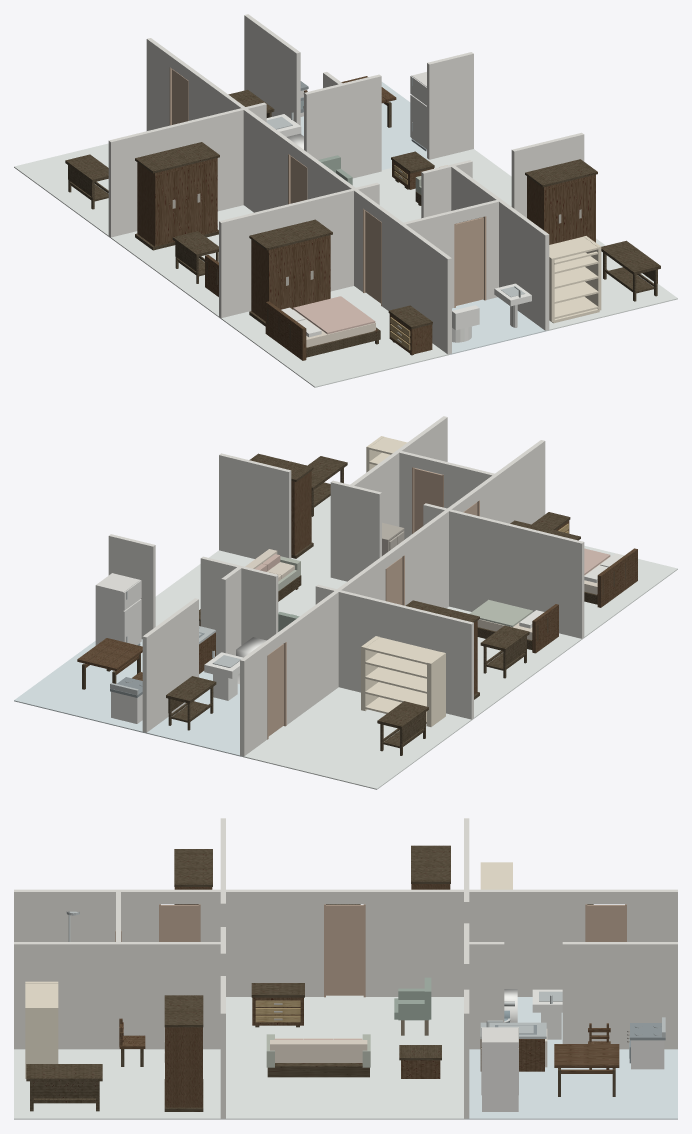
3 views of the same model, one above another, from view 1: azimuth 30°, elevation 25°; view 2: azimuth 150°, elevation 25°; view 3: azimuth 270°, elevation 25° (orthographic). The views are drawn at different scales.
Parts seen in each view (by area): view 1: H39_WALL_18, H39_WALL_17, H39_FLOOR_06_QUARTO_CASAL, H39_WALL_13, H39_WALL_04, H39_WALL_15, H39_WALL_02, H39_WALL_10, H39_WALL_03, H39_FLOOR_01_SALA_/_ENTRADA, H39_FLOOR_08_GUARDA_/_DEPOSITO, H39_FLOOR_07_QUARTO_02 (+43 smaller); view 2: H39_WALL_17, H39_FLOOR_08_GUARDA_/_DEPOSITO, H39_WALL_18, H39_WALL_00, H39_WALL_15, H39_WALL_10, H39_FLOOR_02_COZINHA_/_COPA, H39_WALL_13, H39_WALL_14, H39_FLOOR_01_SALA_/_ENTRADA, H39_FLOOR_05_LAVANDERIA, H39_WALL_04 (+34 smaller); view 3: H39_FLOOR_01_SALA_/_ENTRADA, H39_WALL_15, H39_WALL_04, H39_WALL_10, H39_WALL_14, H39_FLOOR_02_COZINHA_/_COPA, H39_FLOOR_00_OFICINA_DE_ARREIOS, H39_WALL_13, H39_DOOR_02_LEAF, H39_WALL_09, H39_FURN_08_fridge__05__gabinete, H39_FURN_02_wardrobe__06__corpo (+31 smaller).
Part boxes in pixels (x1,y1,x2,y2): H39_WALL_18: (108,108,243,237); H39_WALL_17: (219,189,353,318); H39_FLOOR_06_QUARTO_CASAL: (220,286,449,387); H39_WALL_13: (381,210,451,354); H39_WALL_04: (451,165,549,330); H39_WALL_15: (188,68,292,212); H39_WALL_02: (427,52,473,159); H39_WALL_10: (244,14,300,125); H39_WALL_03: (341,74,381,178); H39_FLOOR_01_SALA_/_ENTRADA: (352,149,511,222); H39_FLOOR_08_GUARDA_/_DEPOSITO: (14,143,109,237); H39_FLOOR_07_QUARTO_02: (109,205,253,317); H39_WALL_17: (449,509,584,638); H39_FLOOR_08_GUARDA_/_DEPOSITO: (242,687,472,789); H39_WALL_18: (338,590,473,719); H39_WALL_00: (219,453,291,558); H39_WALL_15: (282,556,386,724); H39_WALL_10: (142,598,198,732); H39_FLOOR_02_COZINHA_/_COPA: (14,639,212,732); H39_WALL_13: (475,440,545,524); H39_WALL_14: (400,501,460,608); H39_FLOOR_01_SALA_/_ENTRADA: (155,550,346,626); H39_FLOOR_05_LAVANDERIA: (144,684,241,756); H39_WALL_04: (350,416,447,526); H39_FLOOR_01_SALA_/_ENTRADA: (223,996,466,1119); H39_WALL_15: (364,889,586,996); H39_WALL_04: (14,942,223,1049); H39_WALL_10: (562,942,677,1049); H39_WALL_14: (199,889,324,996); H39_FLOOR_02_COZINHA_/_COPA: (466,1048,677,1119); H39_FLOOR_00_OFICINA_DE_ARREIOS: (14,1049,223,1119); H39_WALL_13: (14,889,159,941); H39_DOOR_02_LEAF: (326,905,363,995); H39_WALL_09: (466,942,504,1049); H39_FURN_08_fridge__05__gabinete: (482,1027,518,1111); H39_FURN_02_wardrobe__06__corpo: (165,1027,202,1107).
Size of the model in its own units: 9.69 by 2.46 by 13.92.
22 materials, 3 textured.
